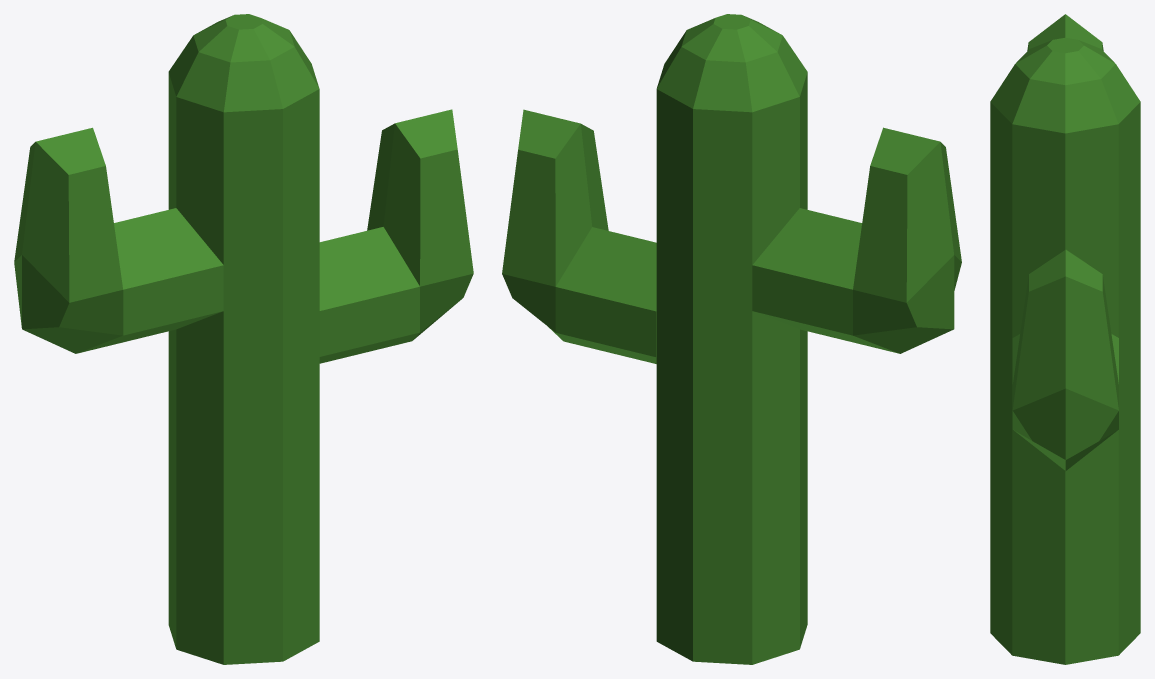
File: cactus.fbx
3 renders of one model, left to right at view 1: azimuth 30°, elevation 25°; view 2: azimuth 150°, elevation 25°; view 3: azimuth 270°, elevation 25°, orthographic. The views are drawn at different scales.
Visible parts, largest first — view 1: Cylinder; view 2: Cylinder; view 3: Cylinder.
Boxes of the visible parts, <box> form: Cylinder: <box>14,14,473,664</box>; Cylinder: <box>502,14,961,664</box>; Cylinder: <box>990,14,1140,664</box>.
Bounding box in the file's own units: 430 × 566 × 131.
